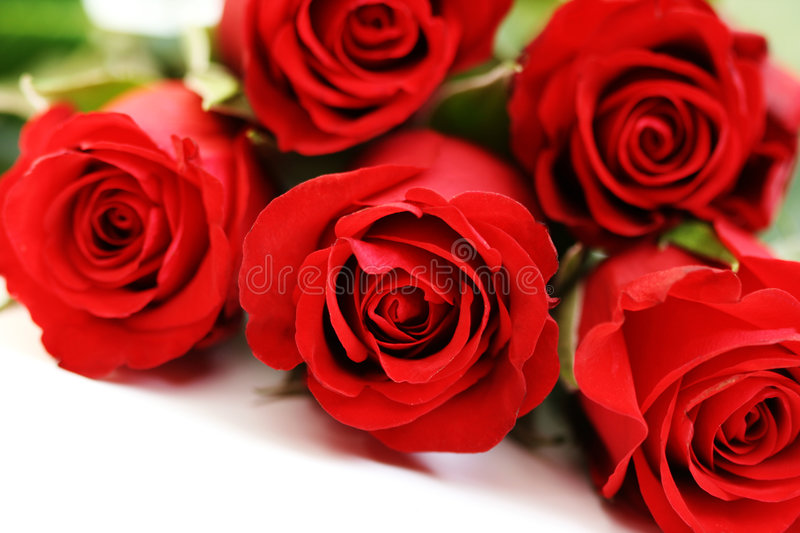RedRose: (247, 160, 560, 478), (4, 79, 239, 368), (505, 5, 791, 242), (587, 243, 800, 533), (208, 3, 501, 150)
